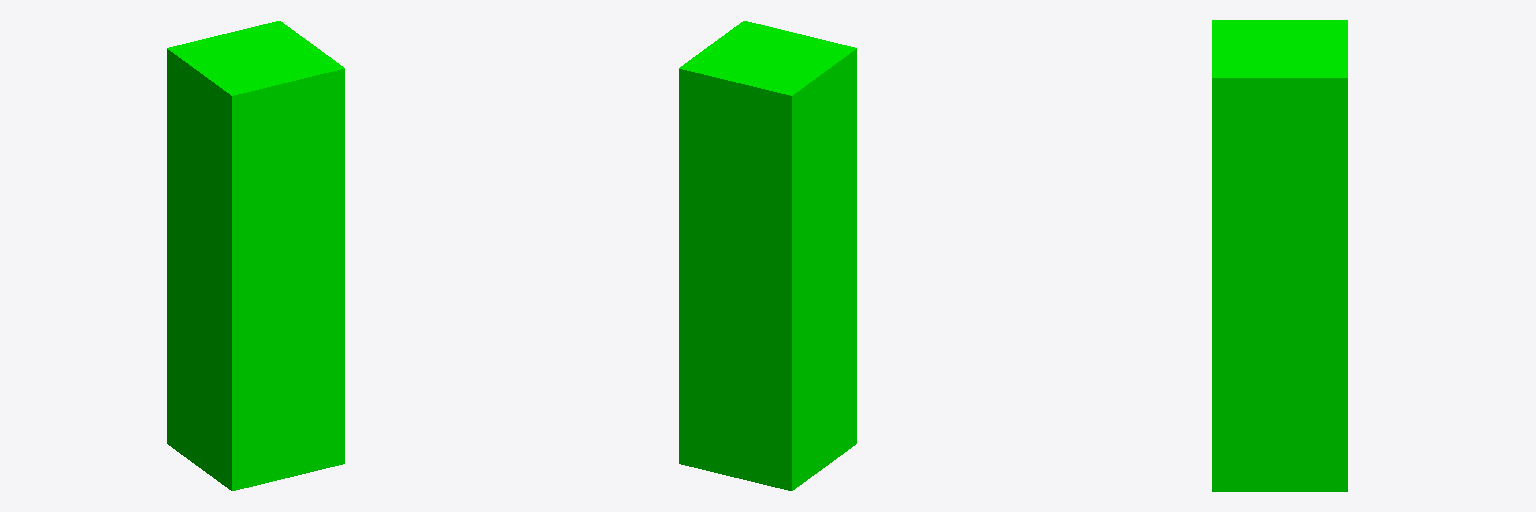
robot.urdf — cube.urdf:
<?xml version="0.0" ?>
<robot name="cube.urdf">
  <link name="baseLink">
    <contact>
      <lateral_friction value=".7"/>
      <inertia_scaling value="3.0"/>
    </contact>
    <inertial>
      <origin rpy="0 0 0" xyz="0 0 0"/>
       <mass value=".1"/>
       <inertia ixx="1" ixy="0" ixz="0" iyy="1" iyz="0" izz="1"/>
    </inertial>
    <visual>
      <origin rpy="0 0 0" xyz="0 0 0"/>
      <geometry>
        <box size=".03 .03 .1" />
      </geometry>
       <material name="green">
        <color rgba="0 1 0 1"/>
      </material>
    </visual>
    <collision>
      <origin rpy="0 0 0" xyz="0 0 0"/>
      <geometry>
	 	<box size=".03 .03 .1"/>
      </geometry>
    </collision>
  </link>
</robot>

--- What the picture shows (computed from the rendered views, not written in the file) ---
The picture shows the robot from 3 angles, left to right: view 1: azimuth 30°, elevation 25°; view 2: azimuth 150°, elevation 25°; view 3: azimuth 270°, elevation 25°; orthographic projection.
Model cube.urdf with 1 links and 0 joints (none), rooted at baseLink, posed every joint at zero.
Links seen in each view (by area): view 1: baseLink; view 2: baseLink; view 3: baseLink.
Link boxes in pixels (box(x1,y1,x2,y2)): baseLink: box(167, 21, 344, 490); baseLink: box(679, 21, 856, 490); baseLink: box(1212, 20, 1347, 491).
Size in the robot's own frame: 0.03 by 0.03 by 0.1 metres.
Geometry: primitives only (box / cylinder / sphere), no mesh files.